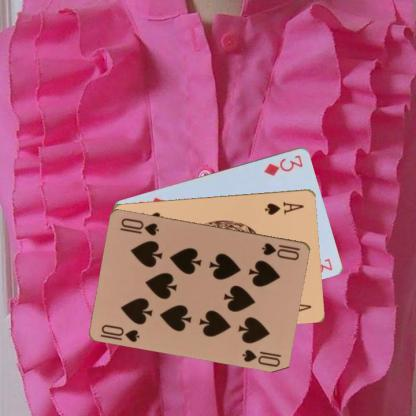10s: (258, 240, 302, 261), (99, 322, 141, 343)
3d: (262, 152, 304, 177)
As: (262, 198, 305, 216)
